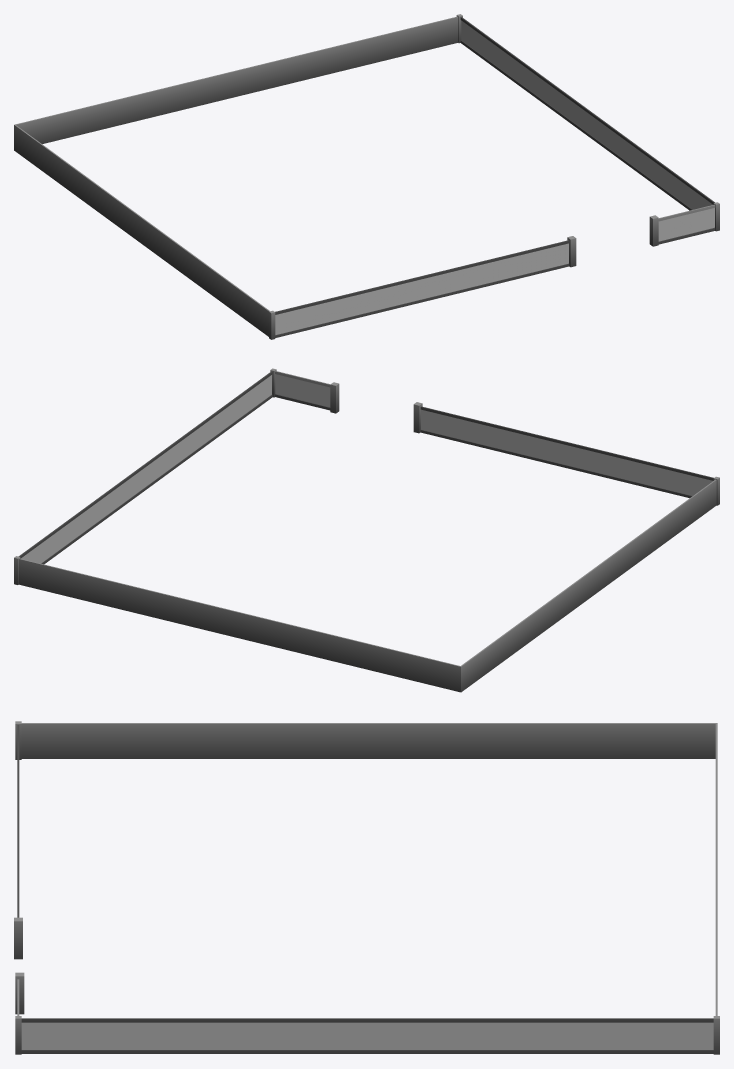
The model's file is HotelsWalls.fbx.
3 views of the same model, one above another, from view 1: azimuth 30°, elevation 25°; view 2: azimuth 150°, elevation 25°; view 3: azimuth 270°, elevation 25° (orthographic). The views are drawn at different scales.
Visible parts, largest first — view 1: Cube.047, Cube.048, Plane.037, Plane.038, Plane.035, Cube.058, Cube.062, Cube.051, Cube.061; view 2: Cube.047, Cube.048, Plane.037, Plane.038, Cube.058, Plane.035, Cube.062, Cube.051, Cube.061; view 3: Cube.048, Plane.038, Cube.062, Cube.061, Cube.047, Cube.058.
Boxes of the visible parts, x1=… form: Cube.047: x1=14, y1=16, x2=458, y2=143; Cube.048: x1=14, y1=125, x2=269, y2=336; Plane.037: x1=275, y1=243, x2=568, y2=334; Plane.038: x1=461, y1=20, x2=712, y2=209; Plane.035: x1=658, y1=208, x2=714, y2=241; Cube.058: x1=275, y1=240, x2=569, y2=314; Cube.062: x1=460, y1=17, x2=714, y2=204; Cube.051: x1=275, y1=263, x2=569, y2=337; Cube.061: x1=460, y1=40, x2=692, y2=210; Cube.047: x1=18, y1=558, x2=461, y2=692; Cube.048: x1=460, y1=479, x2=716, y2=692; Plane.037: x1=421, y1=409, x2=712, y2=495; Plane.038: x1=21, y1=375, x2=271, y2=563; Cube.058: x1=420, y1=406, x2=713, y2=480; Plane.035: x1=275, y1=374, x2=330, y2=407; Cube.062: x1=18, y1=371, x2=272, y2=558; Cube.051: x1=420, y1=430, x2=692, y2=498; Cube.061: x1=41, y1=394, x2=272, y2=564; Cube.048: x1=21, y1=723, x2=715, y2=758; Plane.038: x1=21, y1=1022, x2=713, y2=1049; Cube.062: x1=21, y1=1018, x2=713, y2=1022; Cube.061: x1=21, y1=1050, x2=713, y2=1053; Cube.047: x1=715, y1=723, x2=717, y2=1015; Cube.058: x1=17, y1=725, x2=19, y2=917.
Bounding box in the file's own units: 9135 × 541 × 9162.
